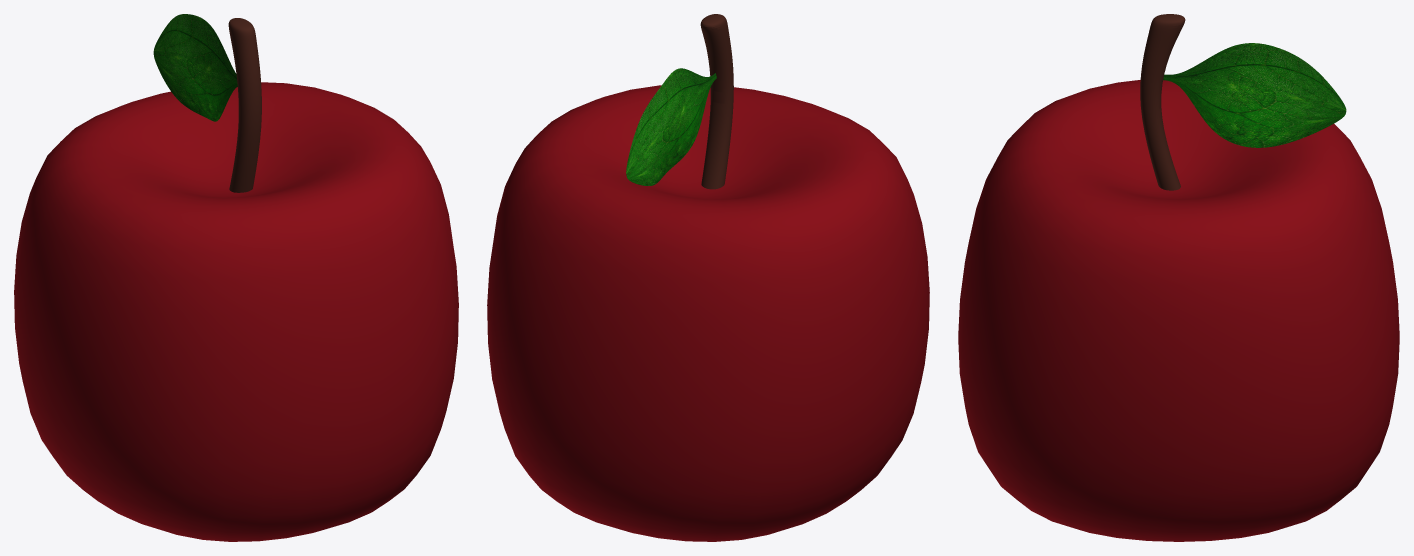
File: Manzana.fbx
3 views of the same model, side by side, from view 1: azimuth 30°, elevation 25°; view 2: azimuth 150°, elevation 25°; view 3: azimuth 270°, elevation 25° (orthographic).
Visible parts, largest first — view 1: Cube, Plane.001, Cube.001; view 2: Cube, Plane.001, Cube.001; view 3: Cube, Plane, Cube.001.
Boxes of the visible parts, x1,y1,x2,y2 form: Cube: [14, 82, 458, 541]; Plane.001: [153, 14, 237, 121]; Cube.001: [228, 18, 261, 192]; Cube: [487, 85, 929, 541]; Plane.001: [626, 68, 716, 185]; Cube.001: [700, 14, 733, 189]; Cube: [958, 80, 1399, 541]; Plane: [1163, 43, 1346, 147]; Cube.001: [1140, 14, 1185, 190].
Bounding box in the file's own units: 129 × 152 × 129.
Materials: 3 (1 with a texture image).
